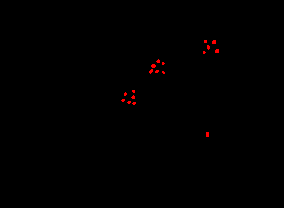Target: (151, 64, 156, 68), (149, 69, 153, 74), (212, 40, 216, 44), (215, 49, 219, 53), (156, 59, 160, 63), (131, 95, 135, 99), (207, 45, 210, 50), (206, 132, 209, 137), (155, 70, 159, 73), (124, 92, 127, 96), (121, 99, 125, 102), (127, 101, 131, 104), (132, 102, 136, 105), (204, 40, 207, 43), (203, 51, 206, 54), (162, 62, 165, 65), (162, 71, 165, 74), (132, 90, 135, 93)
